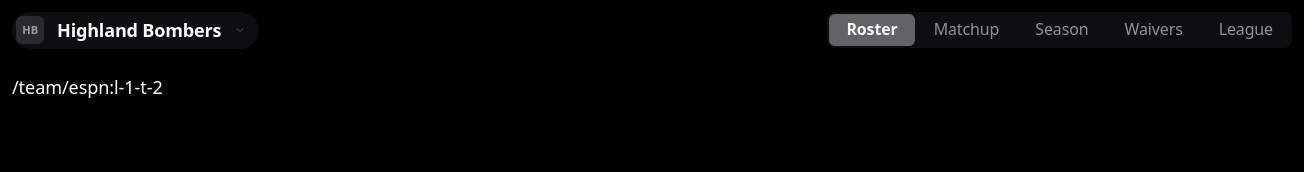
it: TeamContextBar › navigates to a sibling view of the SAME team when a tab is clicked
Expected: the text "Highland Bombers" is shown, [57,18,221,42]
Click the button "Matchup": (966, 30) [917,14,1016,46]
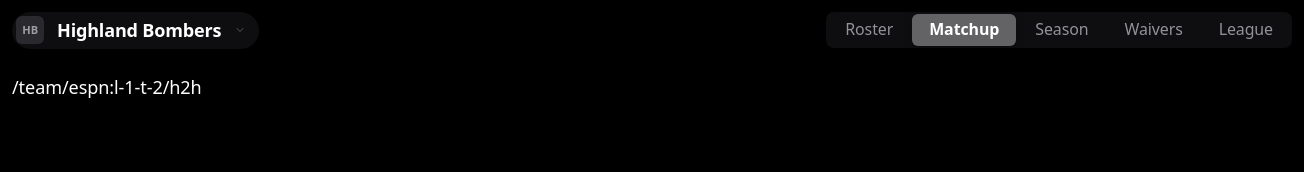
Expected: the text with test id "path" reads "/team/espn:l-1-t-2/h2h", [12,75,202,99]
